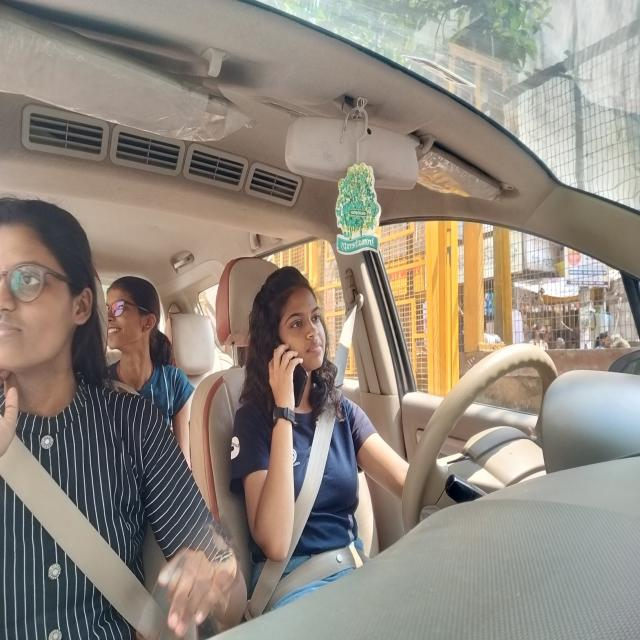mobile: (250, 336, 318, 409)
person: (0, 194, 102, 383), (256, 268, 333, 378), (104, 273, 165, 349)
